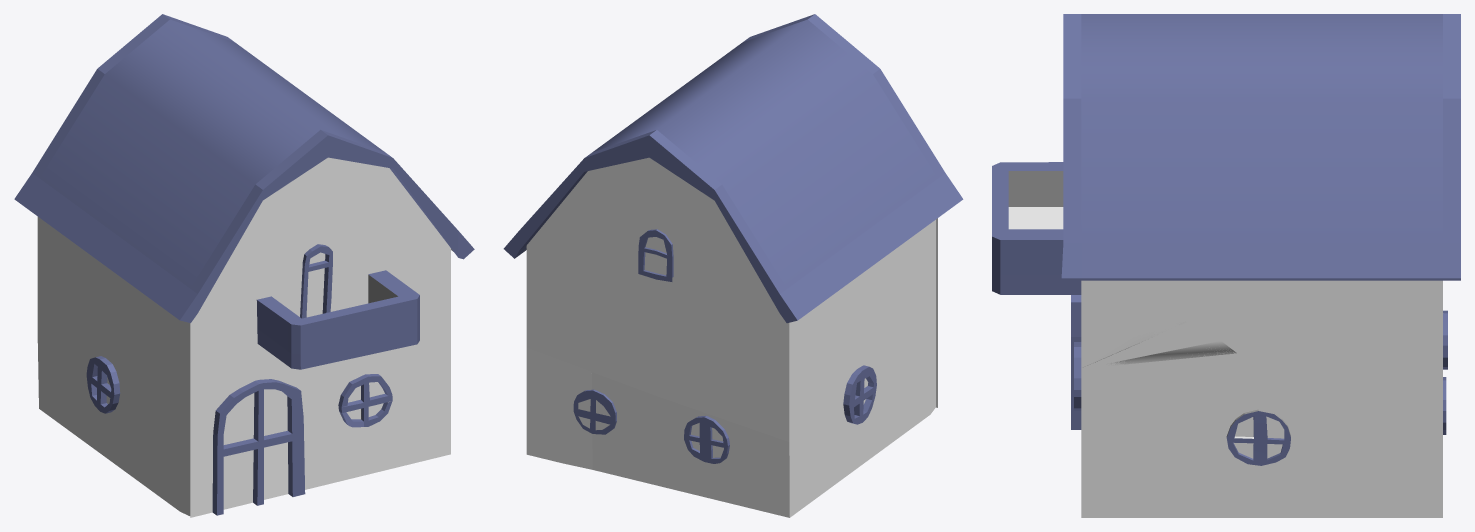
File: House 2 Final Shatter 2.fbx
The picture shows the model from 3 angles, left to right: view 1: azimuth 30°, elevation 25°; view 2: azimuth 150°, elevation 25°; view 3: azimuth 270°, elevation 25°; orthographic projection. The views are drawn at different scales.
Parts seen in each view (by area): view 1: polySurface464, polySurface463; view 2: polySurface464; view 3: polySurface464, polySurface463.
Part boxes in pixels (left/top/right/bottom): polySurface464: left=14, top=14, right=474, bottom=517; polySurface463: left=421, top=344, right=450, bottom=461; polySurface464: left=503, top=14, right=963, bottom=517; polySurface464: left=992, top=14, right=1460, bottom=517; polySurface463: left=1082, top=321, right=1236, bottom=367.
Size of the model in its own units: 226 by 261 by 259.
